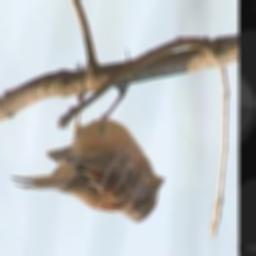Sparrow: (9, 50, 167, 226)
